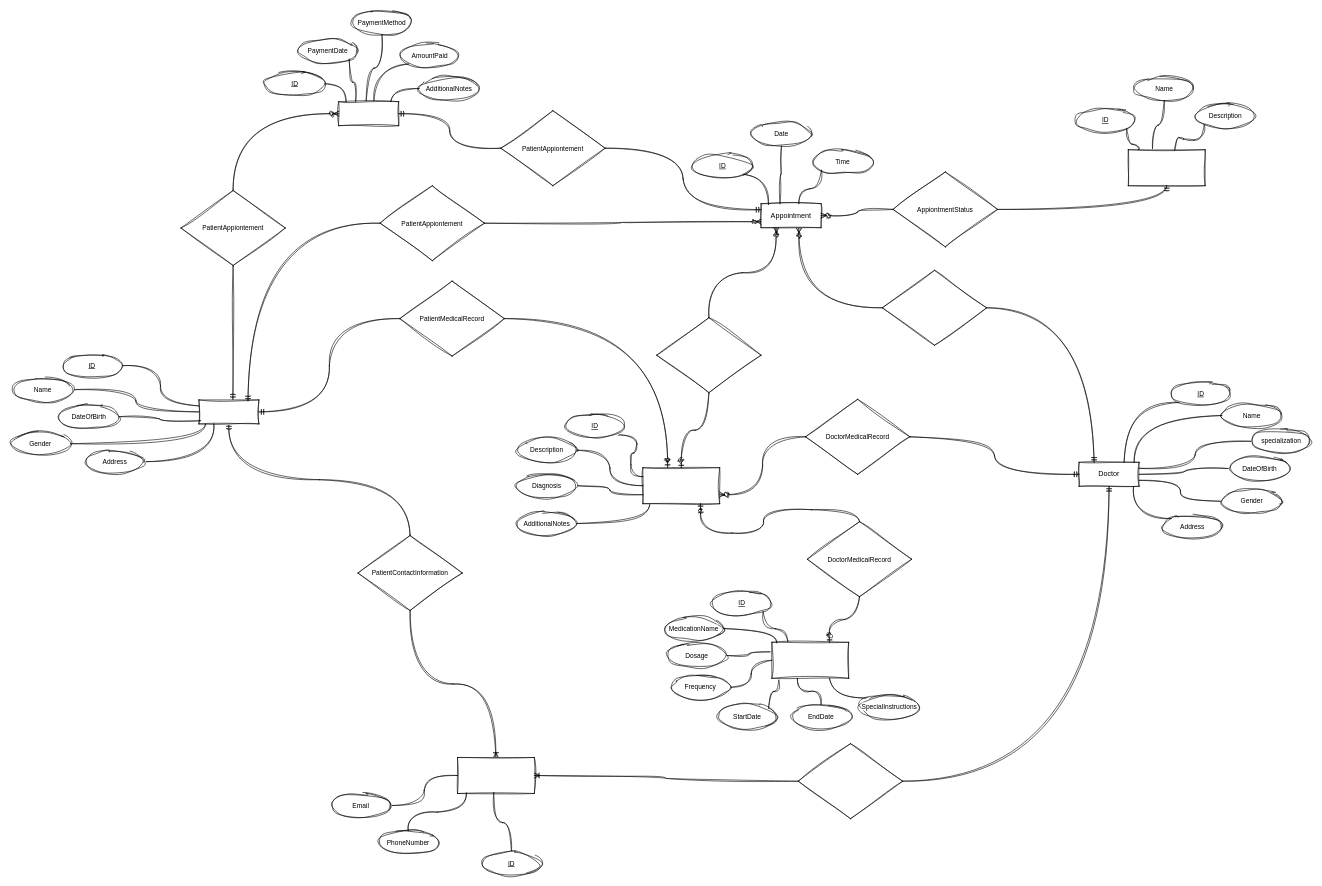
The diagram is 1322 pixels wide and 886 high, and some of its shapes have lost their labels. The shapes that lost their labels are listed below. From the top down, each one's centre as x and y in pixels, then its label:
At [368,113]: "Payment".
At [1166,167]: "AppointmentStatus".
At [934,307]: "DoctorAppiontement".
At [708,355]: "AttendedAppiontment".
At [228,411]: "Patient".
At [681,485]: "MedicalRecord".
At [810,660]: "Prescription".
At [495,775]: "ContactInformation".
At [850,781]: "DoctorContactInformation".
